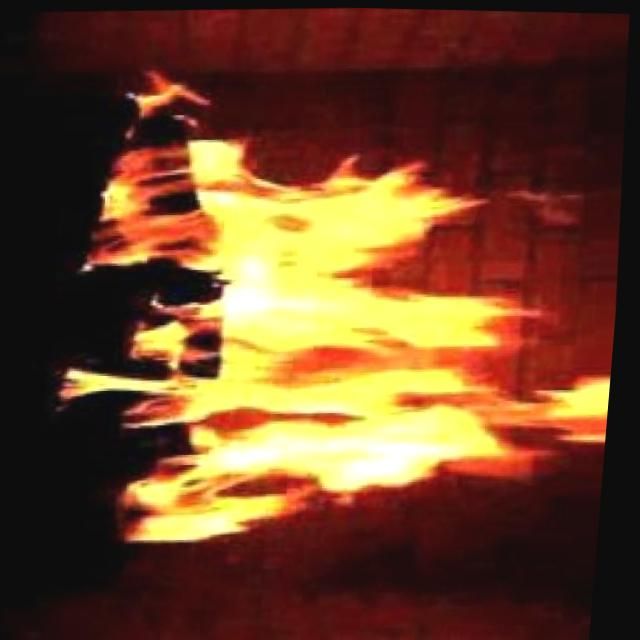helmet: (28, 41, 637, 560)
